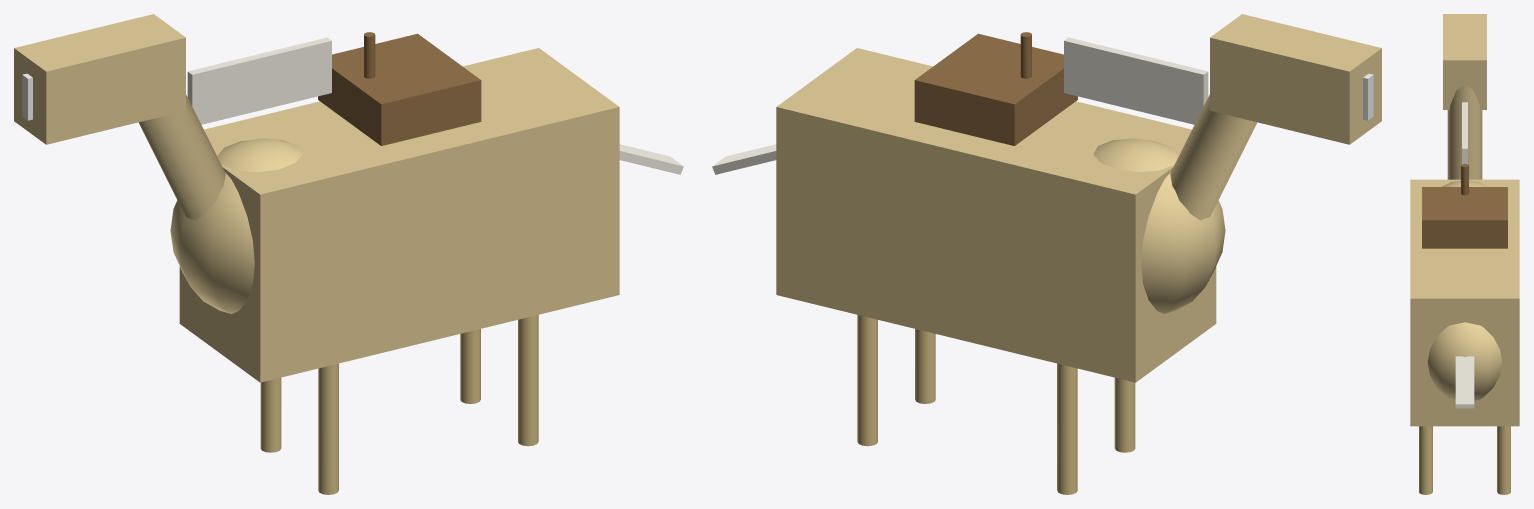
Rendered from env-ww-horse.glb.
3 views of the same model, side by side, from view 1: azimuth 30°, elevation 25°; view 2: azimuth 150°, elevation 25°; view 3: azimuth 270°, elevation 25° (orthographic). The views are drawn at different scales.
Bounding box in the file's own units: 3.26 × 2.28 × 0.7.
